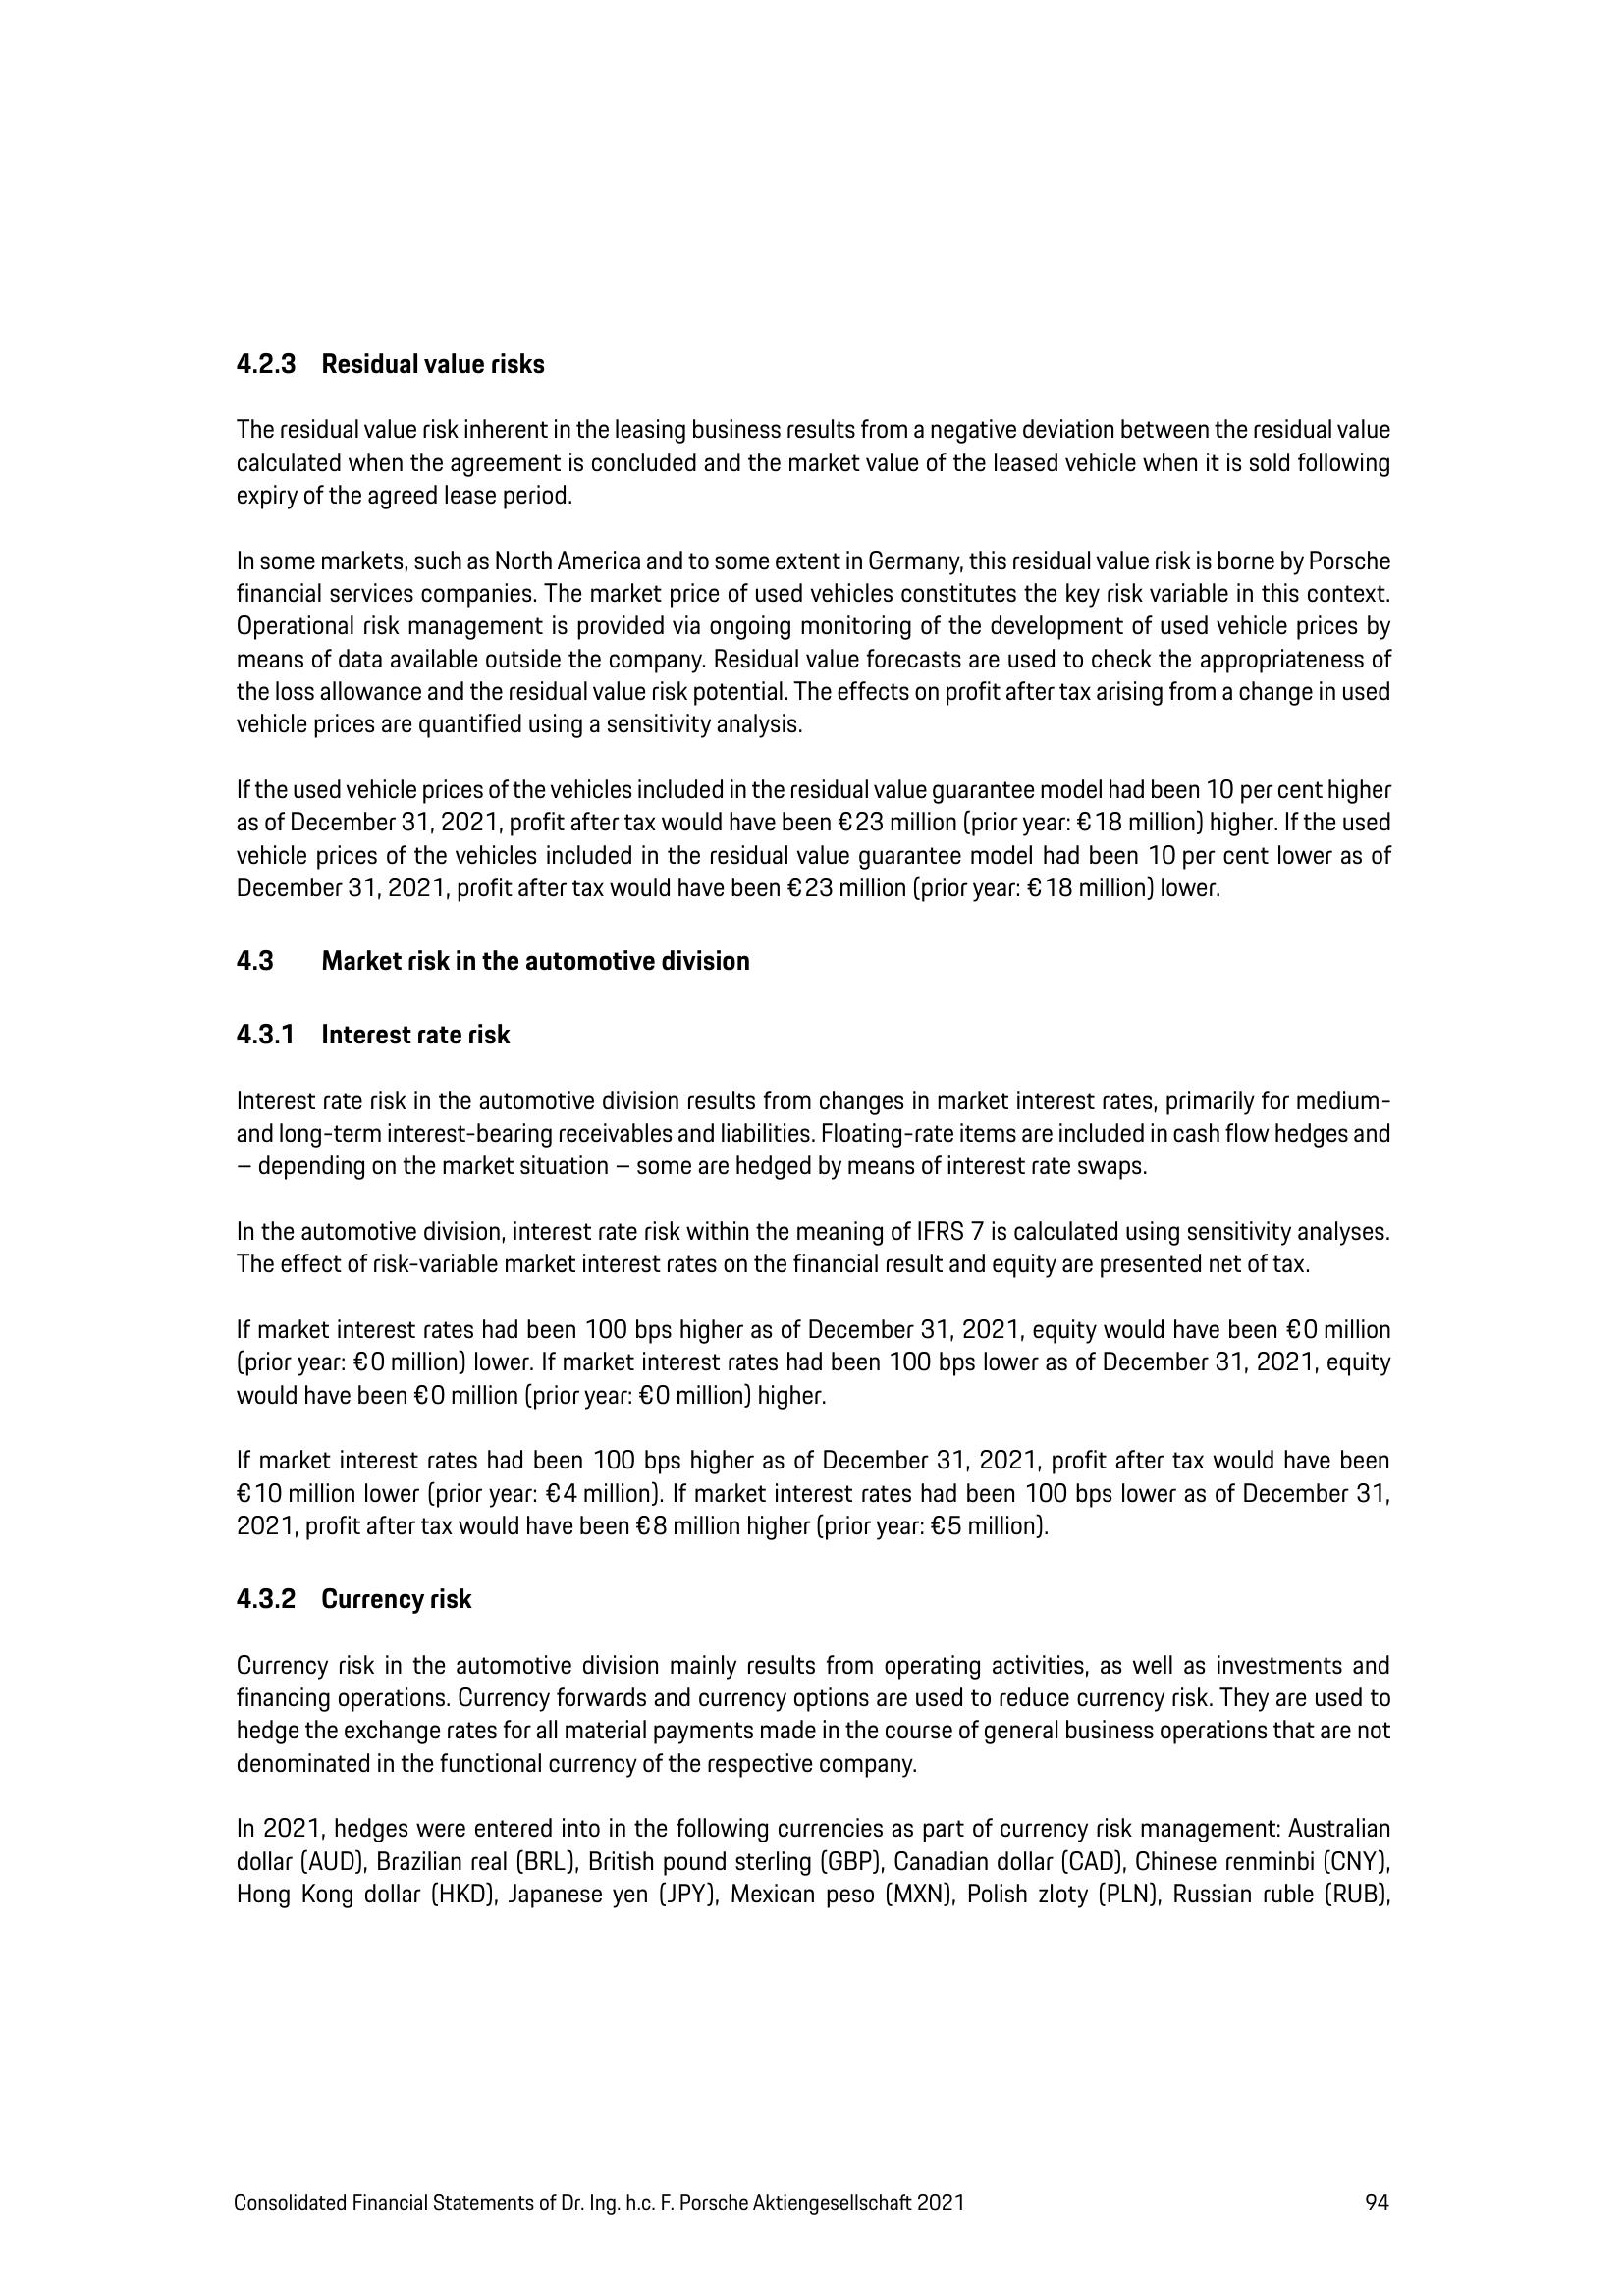Footer: (0, 2134, 1624, 2296)
Header: (0, 0, 1624, 202)
